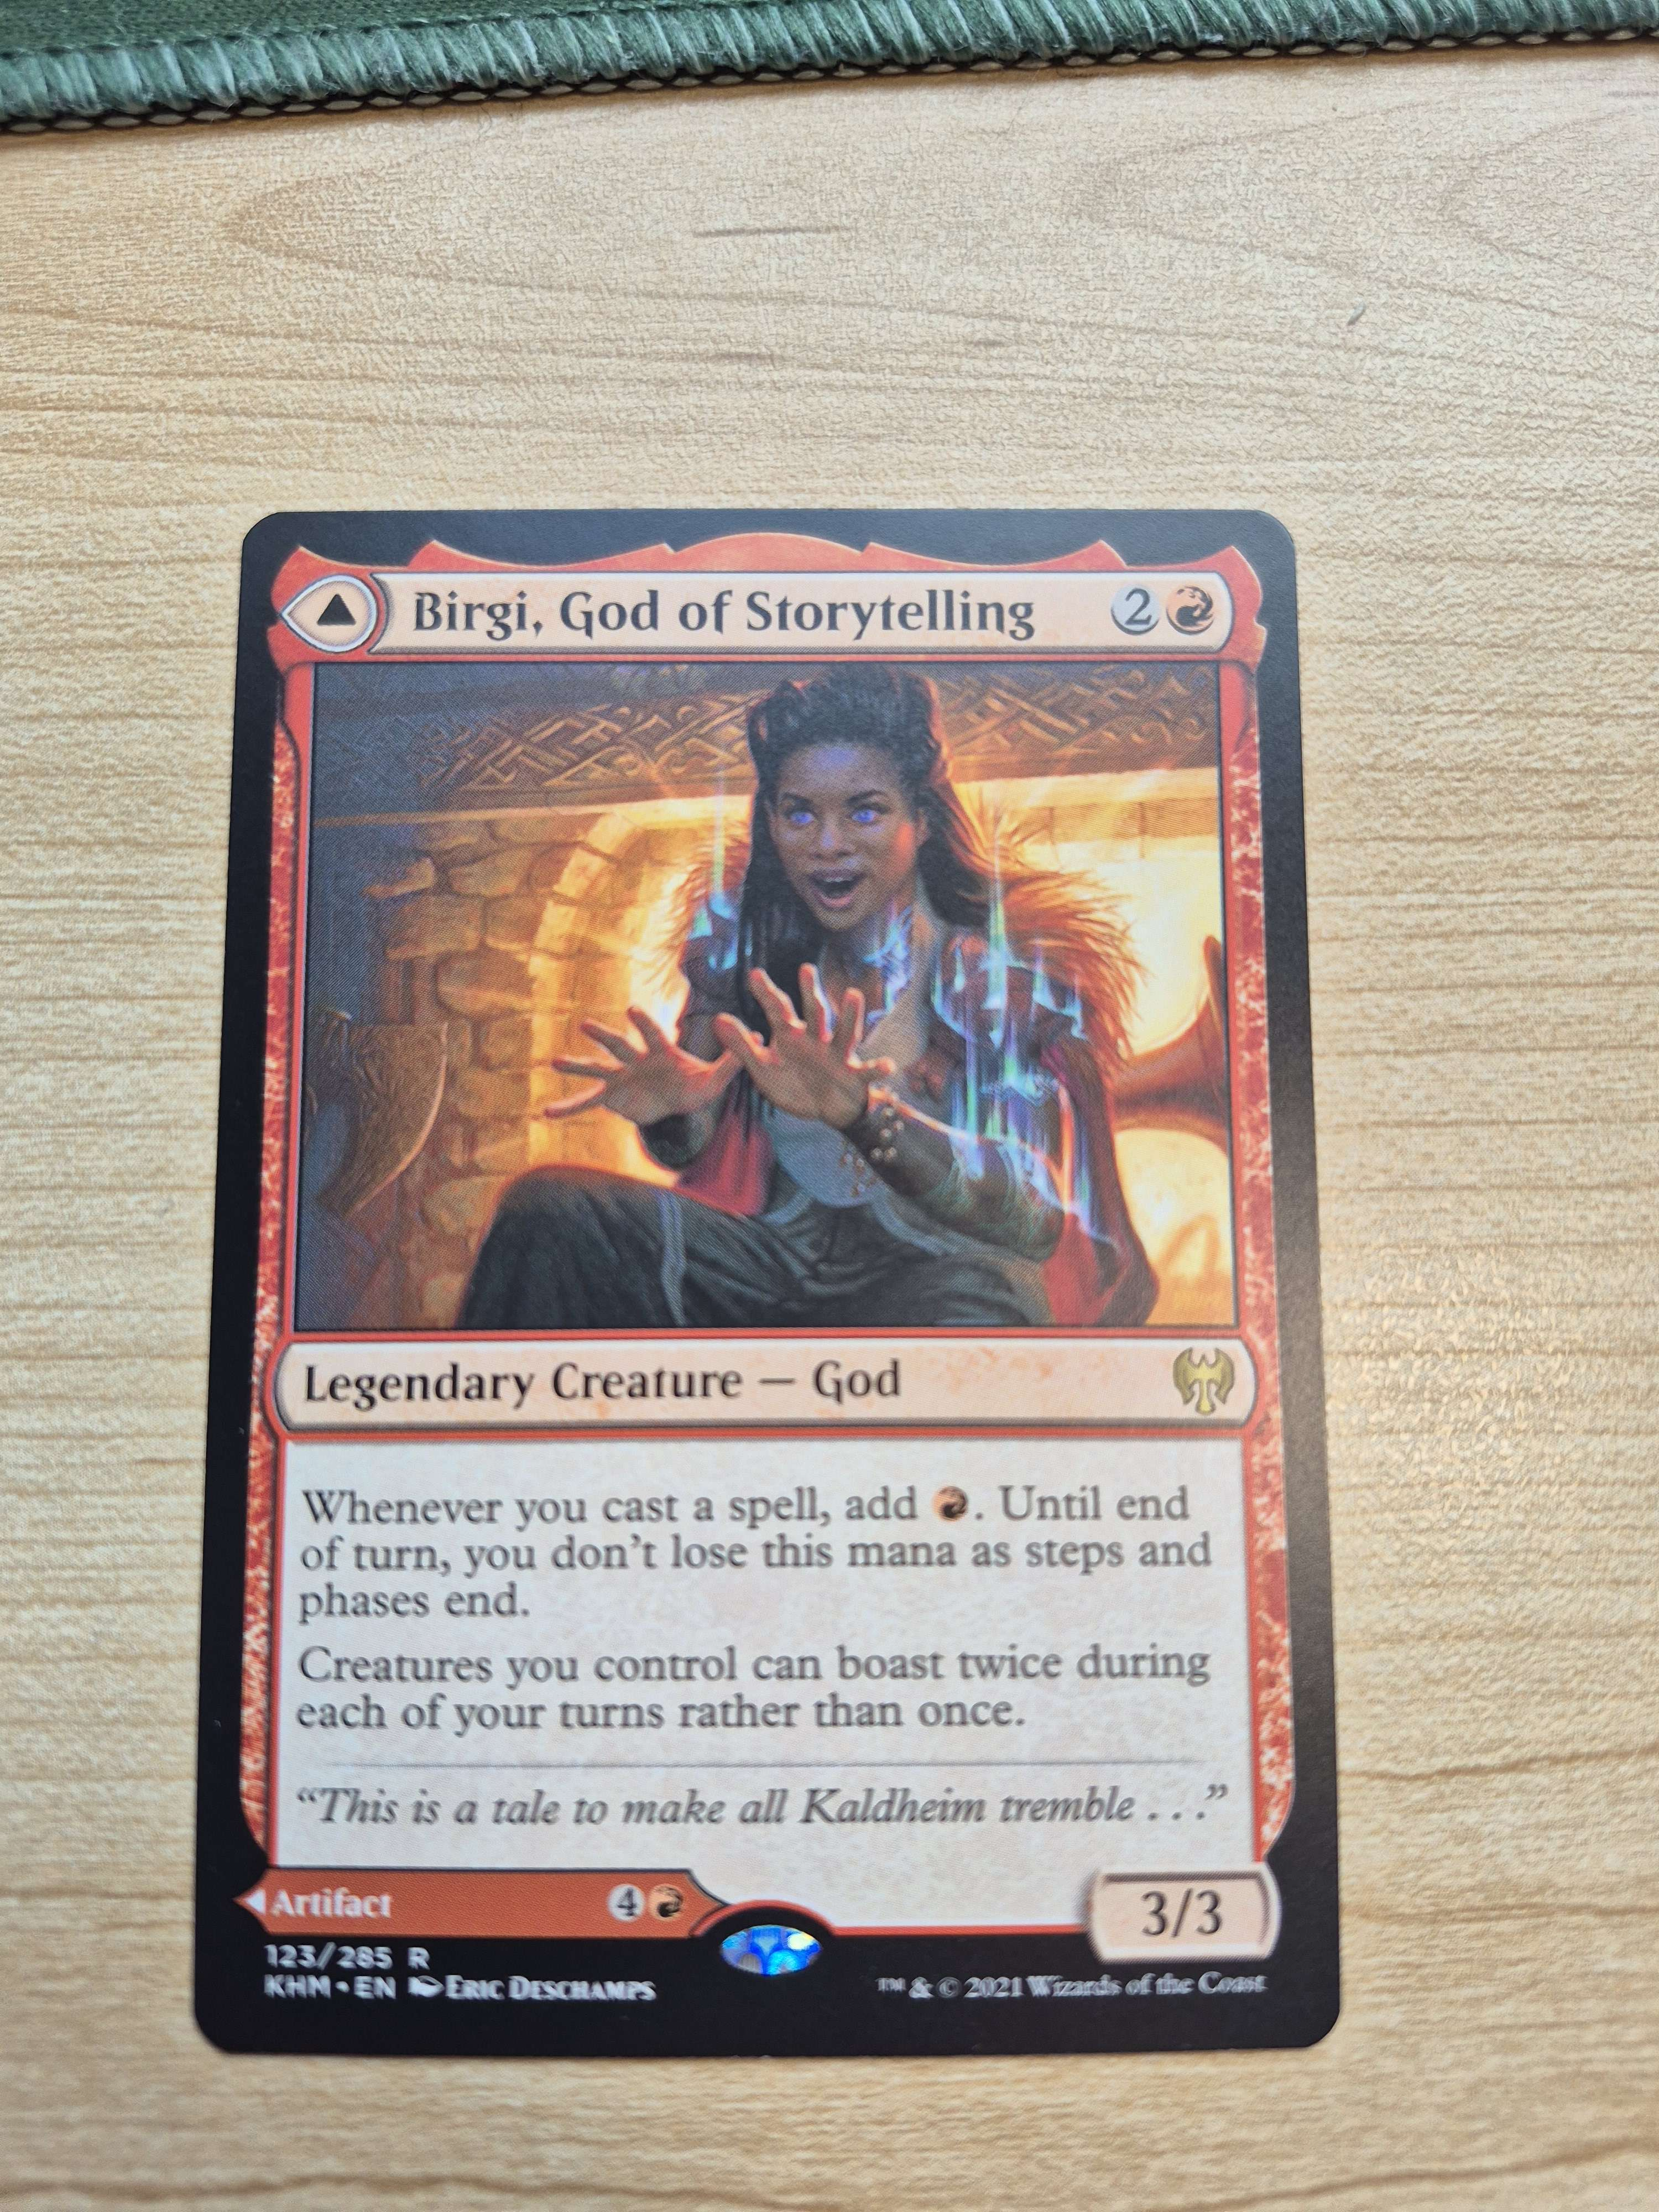mtg_card: (227, 496, 1342, 2050)
